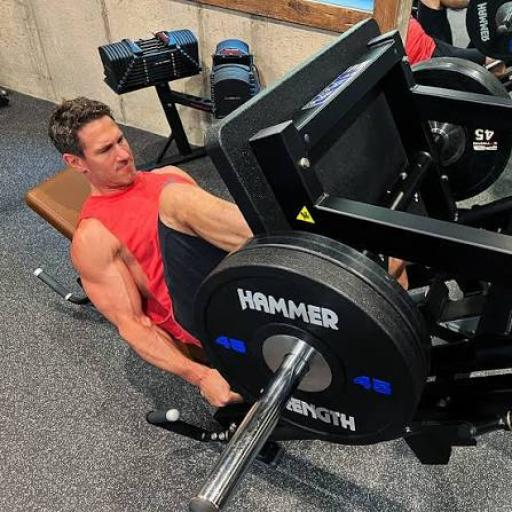Leg Press: (160, 41, 506, 443)
